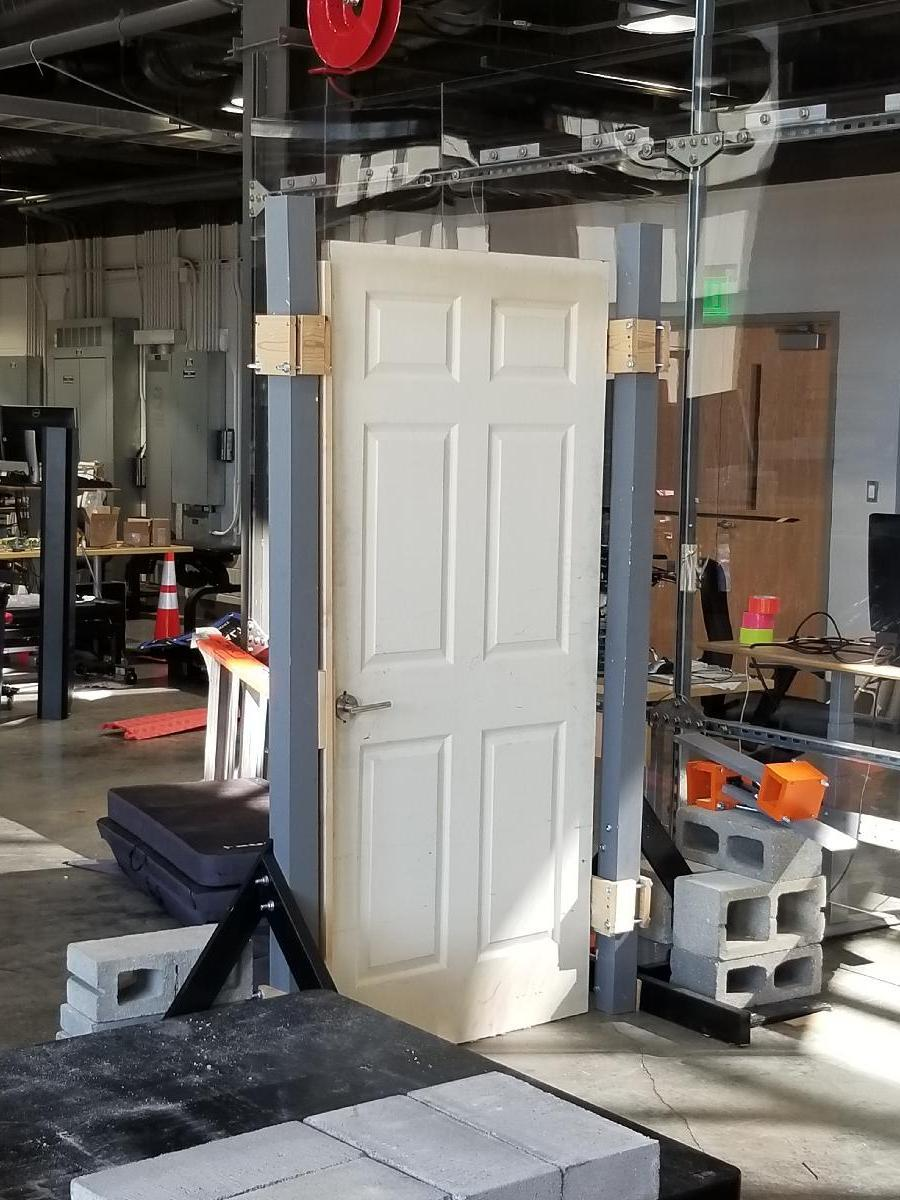door: (313, 253, 604, 1053)
handle: (335, 690, 394, 720)
